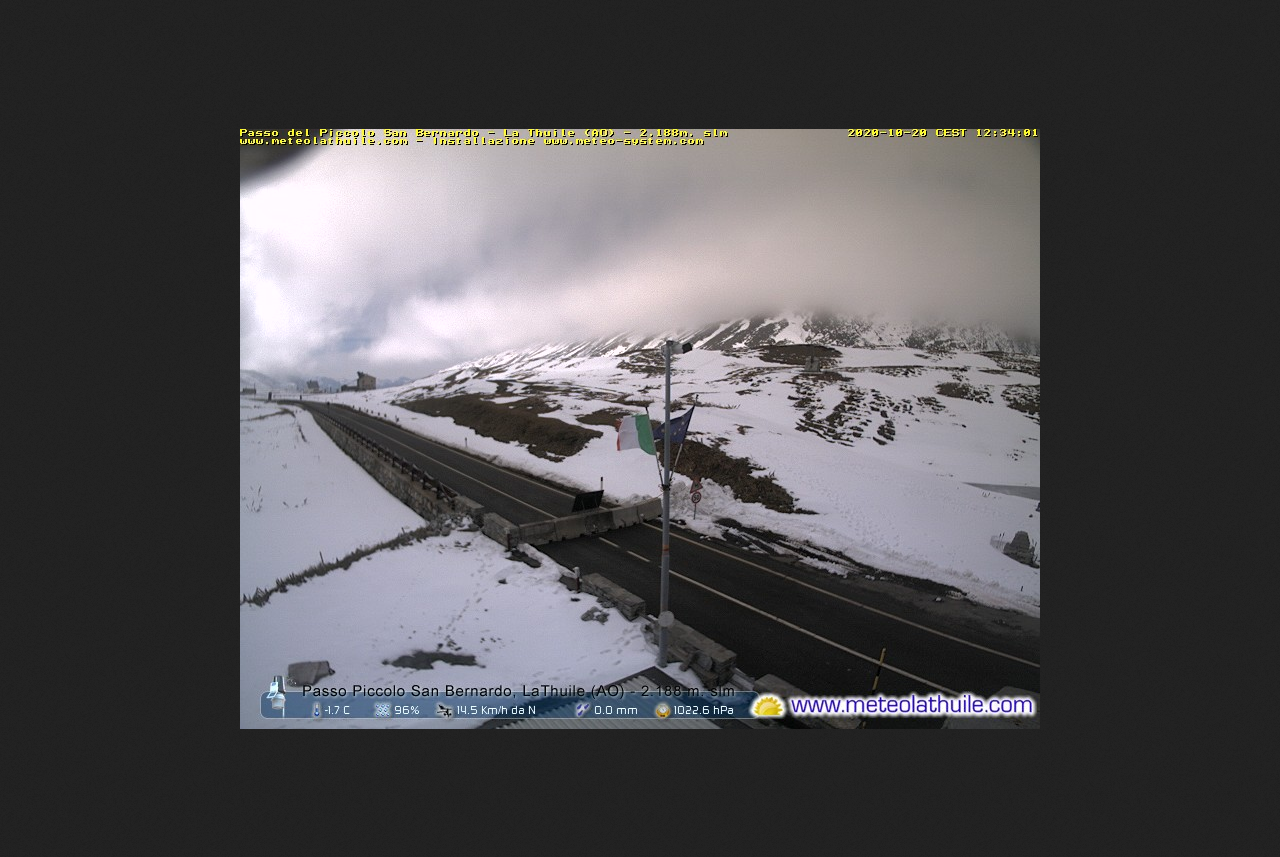maybe: (615, 417, 657, 455), (657, 408, 697, 444)
